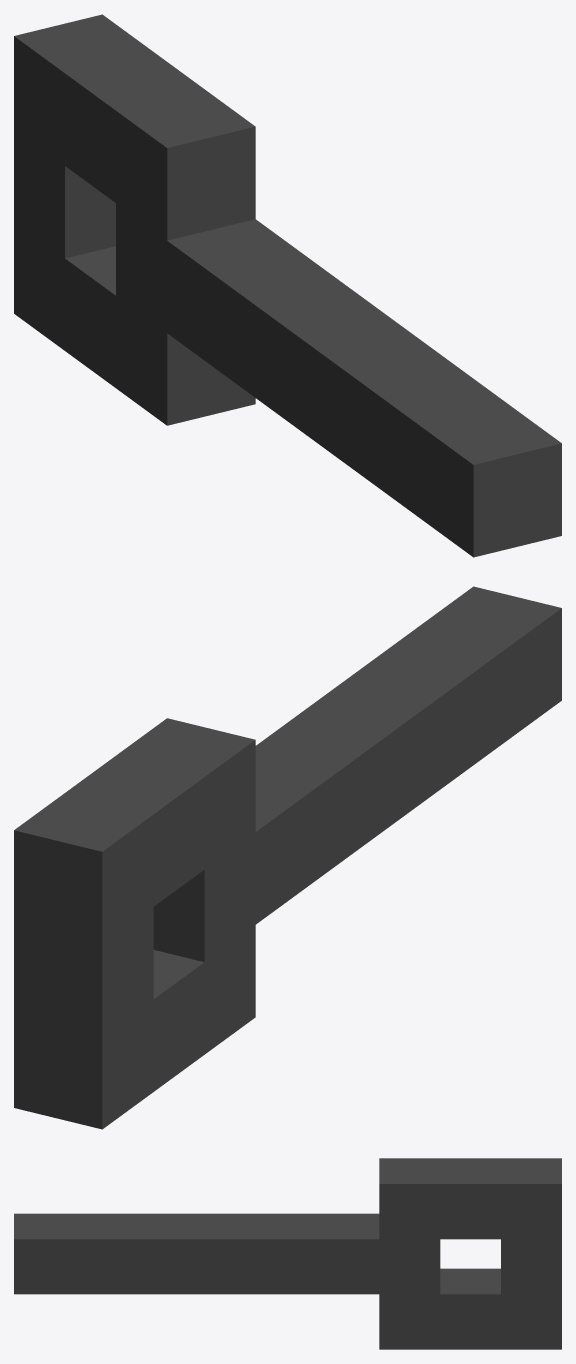
Rendered from GrenadePin.fbx.
3 renders of one model, top to bottom at view 1: azimuth 30°, elevation 25°; view 2: azimuth 150°, elevation 25°; view 3: azimuth 270°, elevation 25°, orthographic. The views are drawn at different scales.
Parts seen in each view (by area): view 1: GrenadePin1; view 2: GrenadePin1; view 3: GrenadePin1.
Boxes of the visible parts, x1,y1,x2,y2 form: GrenadePin1: [14, 14, 561, 557]; GrenadePin1: [14, 586, 561, 1129]; GrenadePin1: [14, 1158, 561, 1349].
Size of the model in its own units: 1.63 by 4.89 by 14.66.
1 material, 1 textured.
